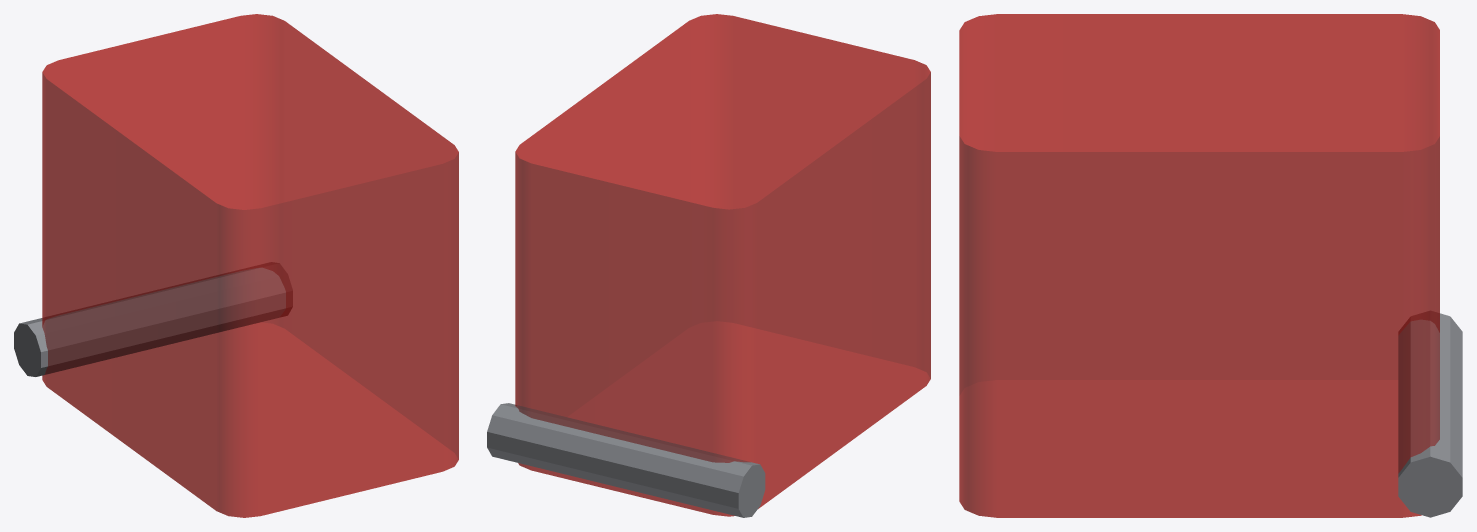
The model's file is ControlBoard_SwitchCover.obj.
3 views of the same model, side by side, from view 1: azimuth 30°, elevation 25°; view 2: azimuth 150°, elevation 25°; view 3: azimuth 270°, elevation 25° (orthographic). The views are drawn at different scales.
Visible parts, largest first — view 1: SwitchCover; view 2: SwitchCover; view 3: SwitchCover.
Boxes of the visible parts, x1,y1,x2,y2 form: SwitchCover: (14, 14, 458, 517); SwitchCover: (487, 14, 930, 517); SwitchCover: (959, 14, 1462, 517).
Size of the model in its own units: 0.036 by 0.042 by 0.0523.
